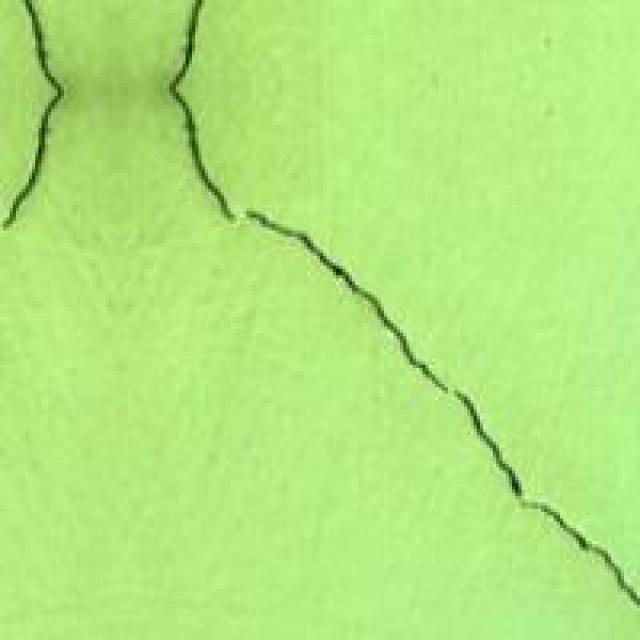crack: (0, 0, 634, 592)
